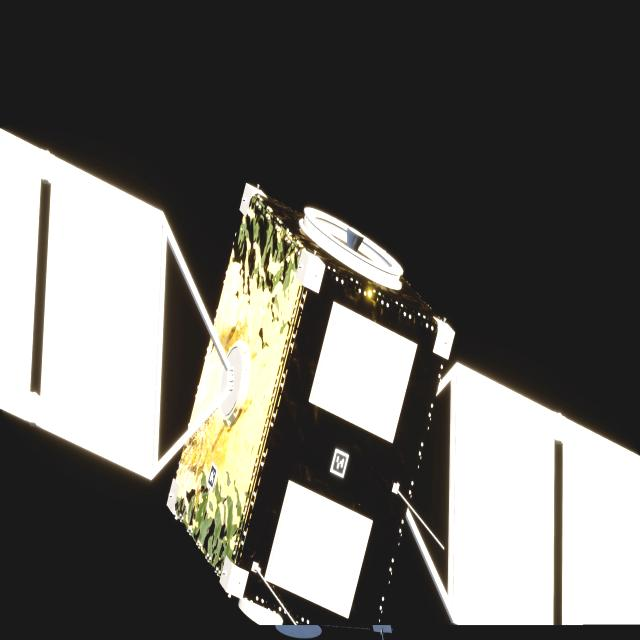satellite: (0, 130, 640, 627)
